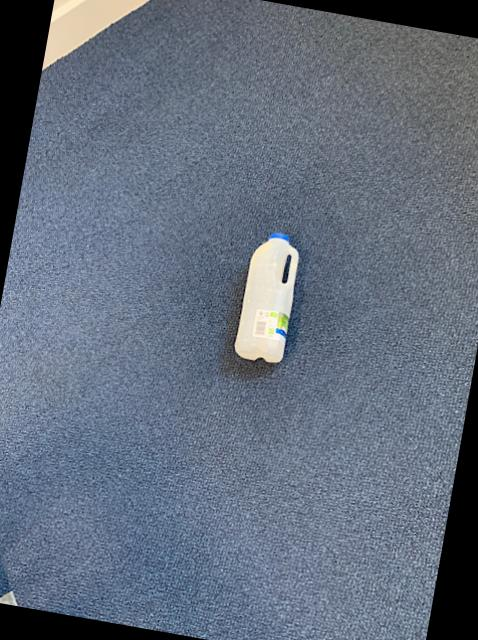plastic: (235, 231, 298, 360)
